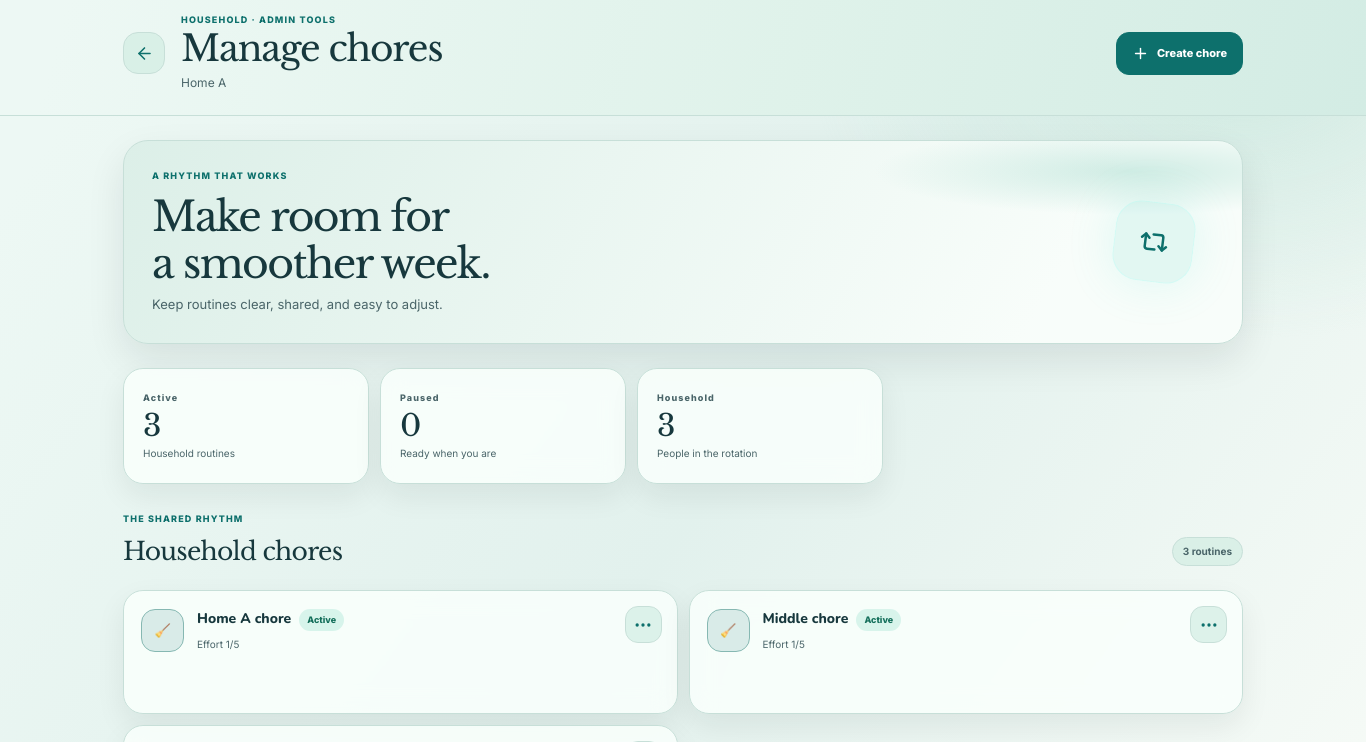
Test: admin screen household isolation › raises only the card whose action menu is open
expect the heading "Home A chore" is shown: met, box [197,610,291,629]
Click the button named "Actions for Home A chore" at (643, 625), box [624,606,662,643]
(page scrolled)
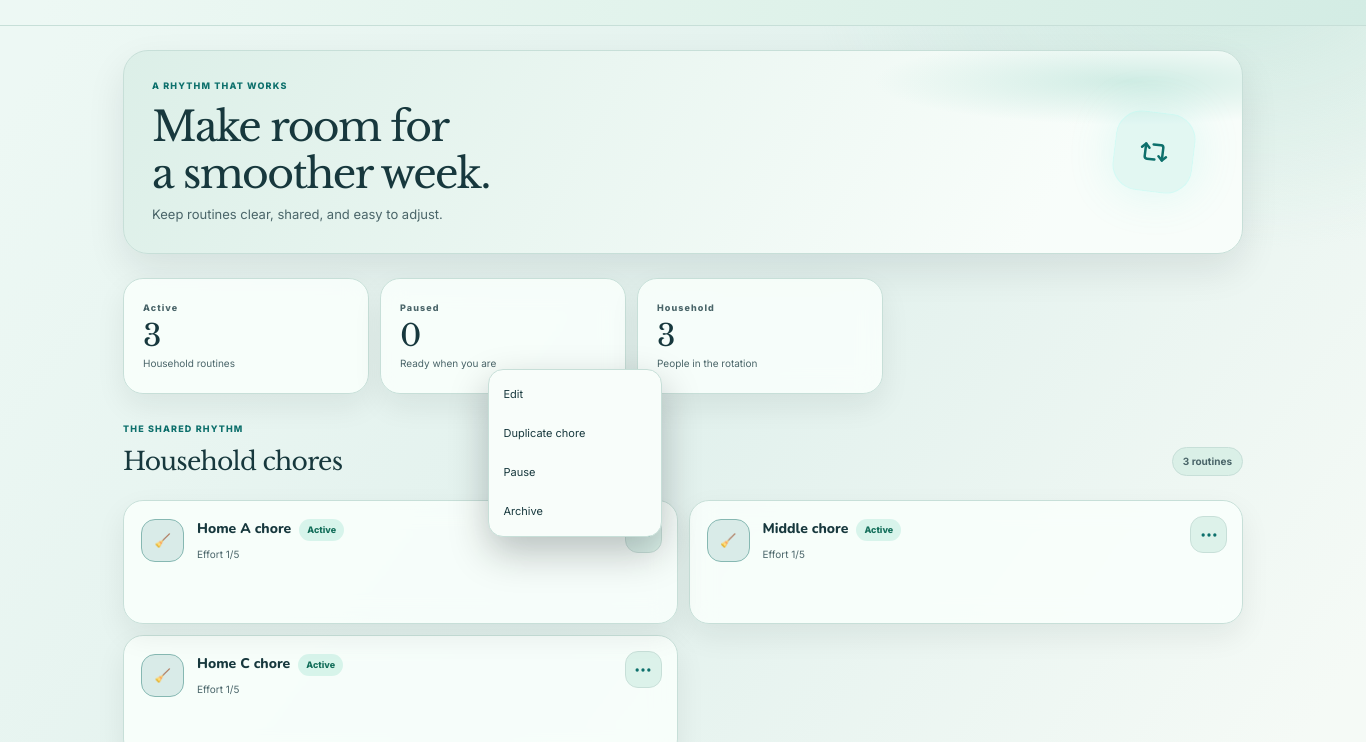
expect the number of buttons "Edit" is 3: met, box [494,375,656,414]; [494,453,656,492]; [494,492,656,531]
Click the button named "Actions for Home C chore" at (643, 670), box [624,651,662,688]
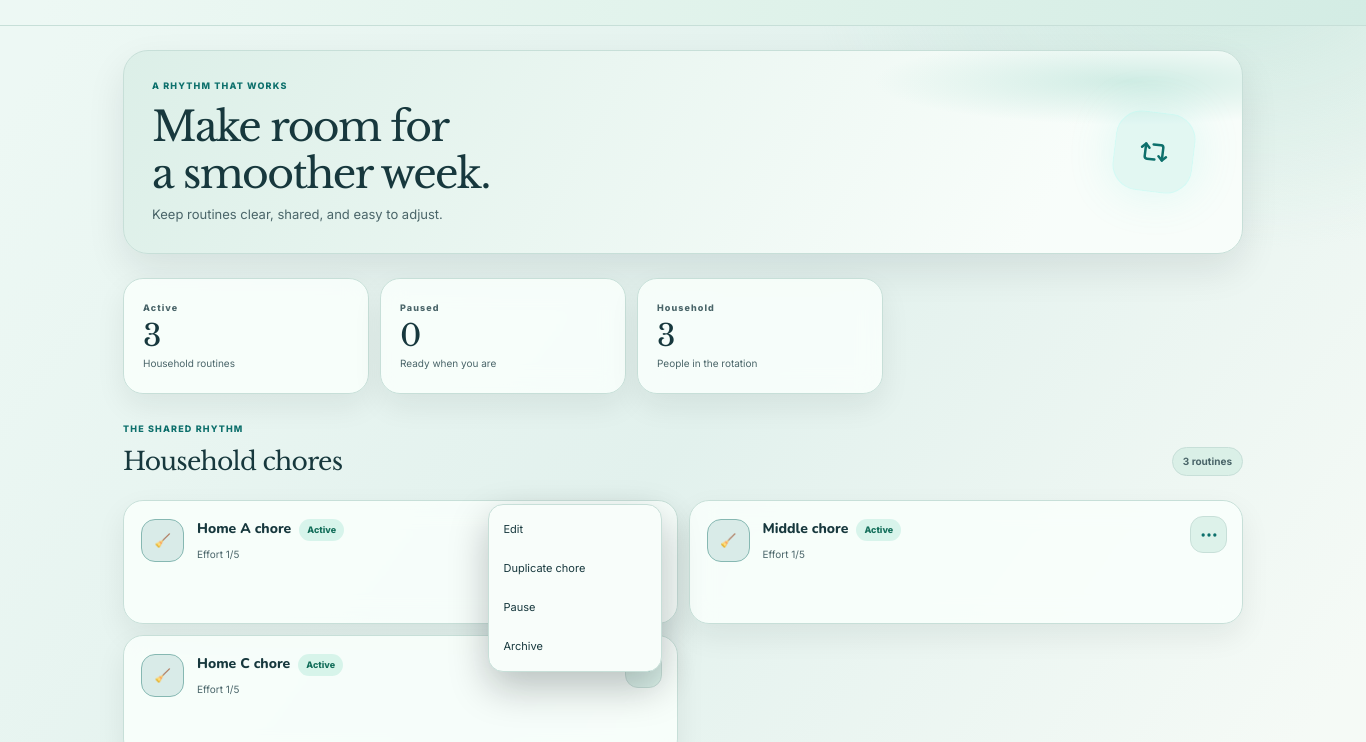
expect the number of buttons "Edit" is 3: met, box [494,510,656,549]; [494,588,656,627]; [494,627,656,666]
expect the button named "Actions for Home A chore" is collapsed: met, box [624,516,662,553]
expect the button named "Actions for Home C chore" is expanded: met, box [624,651,662,688]
